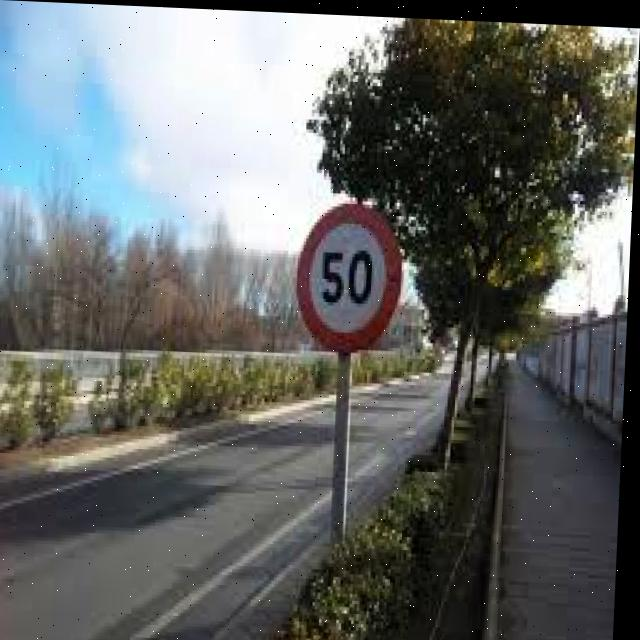Speed limit 50: (293, 193, 410, 352)
